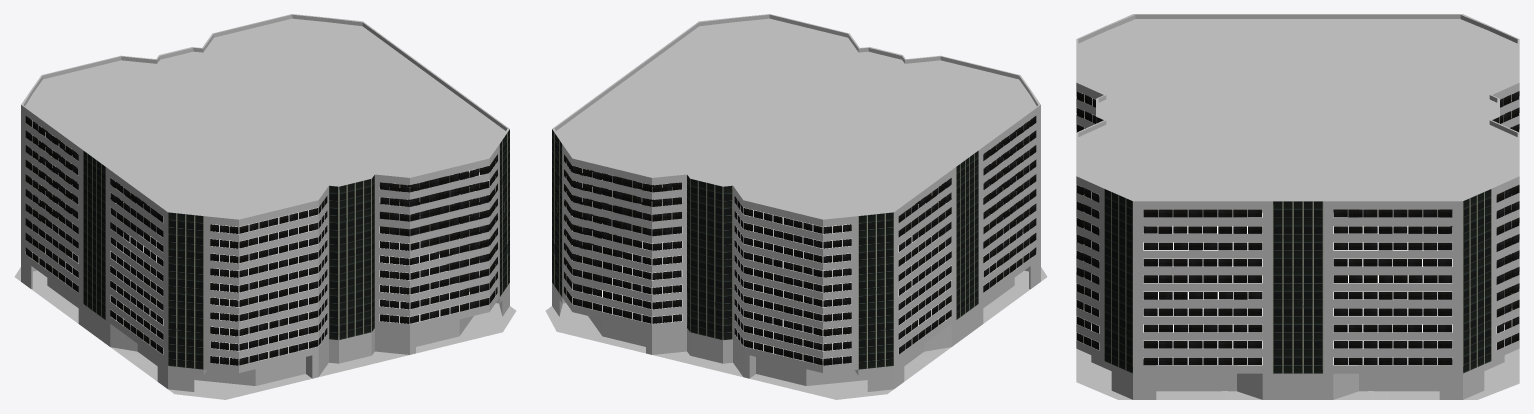
3 renders of one model, left to right at view 1: azimuth 30°, elevation 25°; view 2: azimuth 150°, elevation 25°; view 3: azimuth 270°, elevation 25°, orthographic. The views are drawn at different scales.
Parts seen in each view (by area): view 1: QD-12; view 2: QD-12; view 3: QD-12.
Boxes of the visible parts, box(x1,y1,x2,y2) form: QD-12: box(14, 14, 516, 399); QD-12: box(545, 14, 1047, 399); QD-12: box(1076, 14, 1519, 399).
Size of what is drawn, in the model's own units: 72 by 35.62 by 72.
